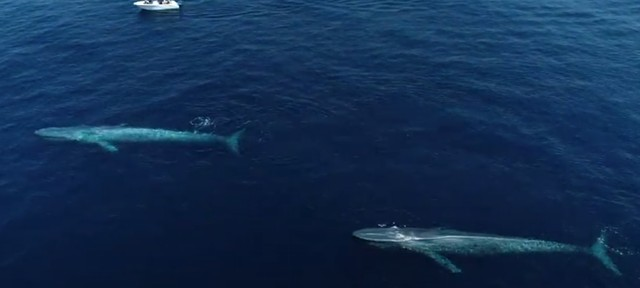whale: (351, 220, 632, 275), (33, 119, 253, 159)
